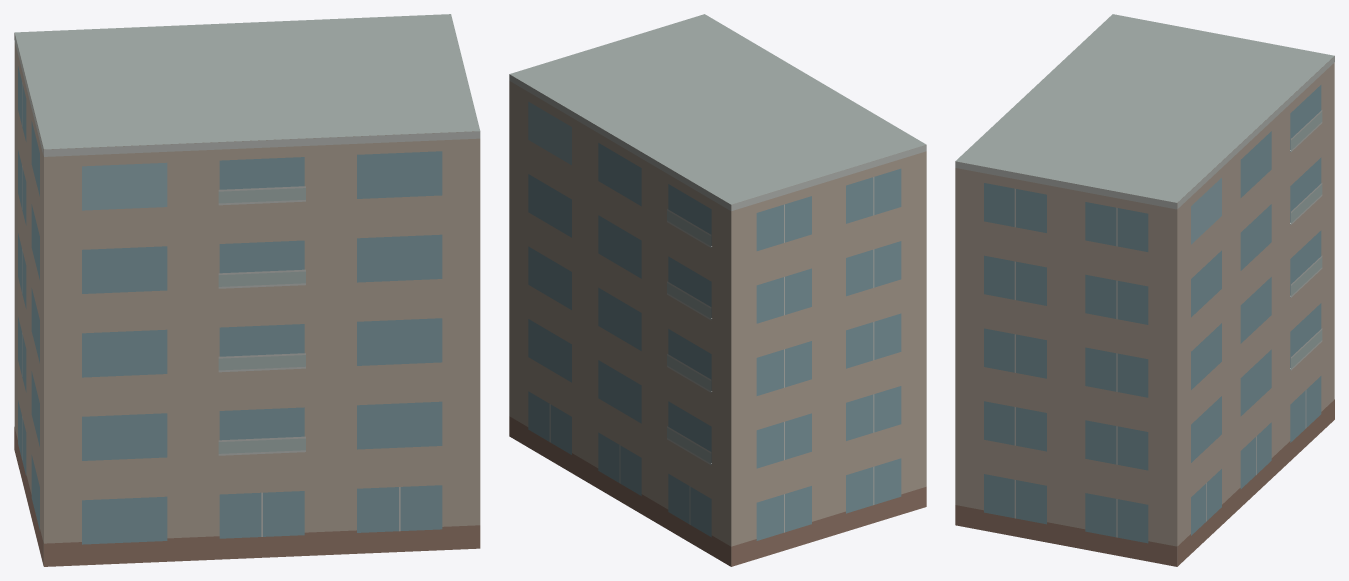
The model's file is survey-upis-32978953.glb.
3 views of the same model, side by side, from view 1: azimuth 30°, elevation 25°; view 2: azimuth 150°, elevation 25°; view 3: azimuth 270°, elevation 25° (orthographic). The views are drawn at different scales.
Parts seen in each view (by area): view 1: survey-upis-32978953.tmp; view 2: survey-upis-32978953.tmp; view 3: survey-upis-32978953.tmp.
Boxes of the visible parts, x1,y1,x2,y2 form: survey-upis-32978953.tmp: (14,14,480,566); survey-upis-32978953.tmp: (509,14,926,566); survey-upis-32978953.tmp: (955,14,1334,566).
Bounding box in the file's own units: 15.04 × 13.5 × 12.77.
